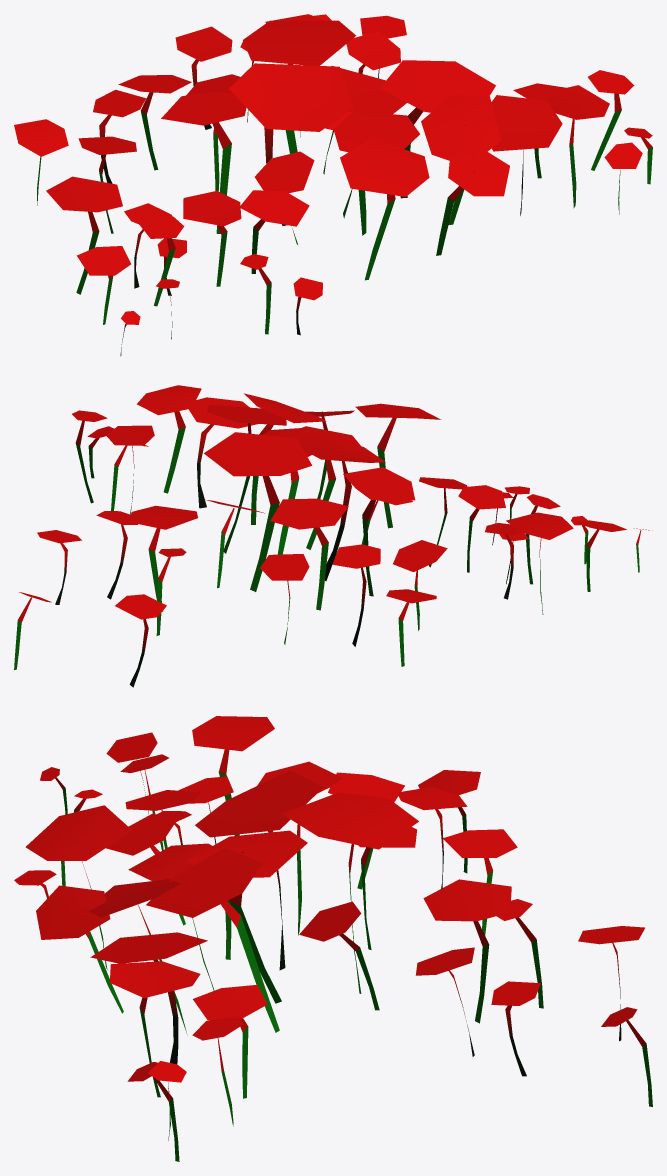
The model's file is vegetation_1.fbx.
3 views of the same model, one above another, from view 1: azimuth 30°, elevation 25°; view 2: azimuth 150°, elevation 25°; view 3: azimuth 270°, elevation 25° (orthographic). The views are drawn at different scales.
Parts seen in each view (by area): view 1: _fd7d_Var2_; view 2: _fd7d_Var2_; view 3: _fd7d_Var2_.
Boxes of the visible parts, x1,y1,x2,y2 form: _fd7d_Var2_: [14, 14, 652, 356]; _fd7d_Var2_: [14, 385, 652, 687]; _fd7d_Var2_: [14, 716, 652, 1161].
Bounding box in the file's own units: 70.93 × 21.66 × 58.77.
